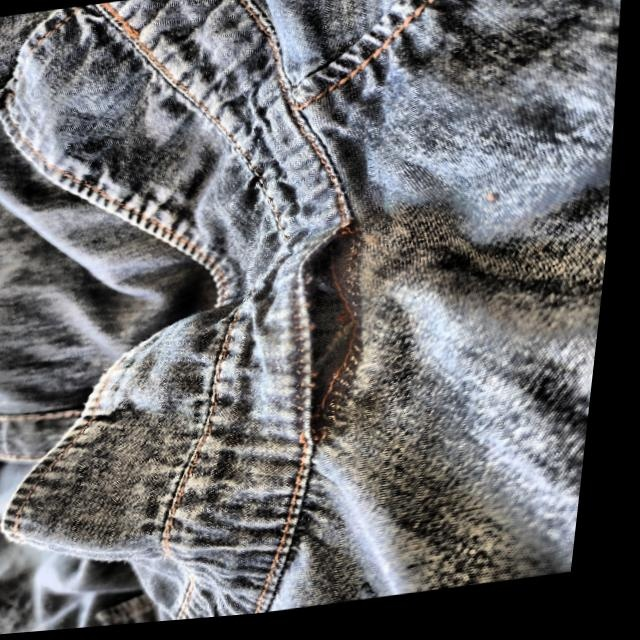seam: (257, 204, 408, 471)
